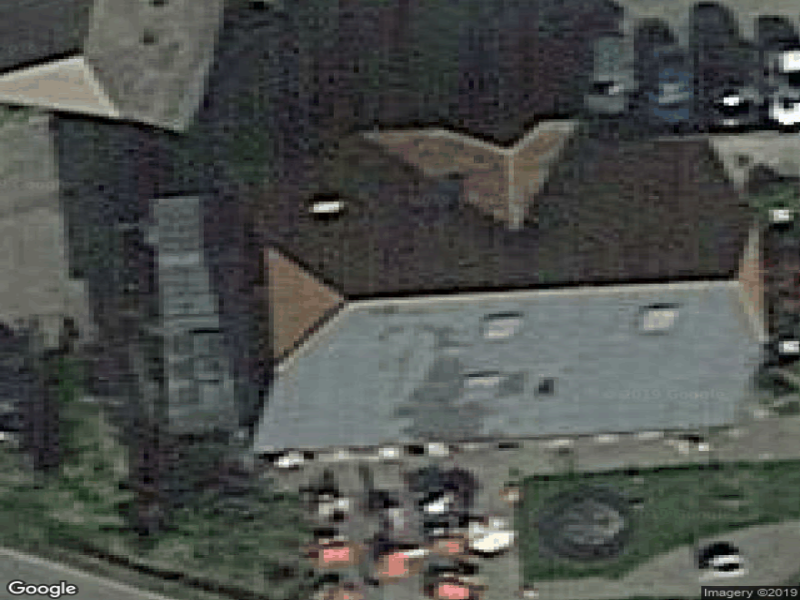pv: (260, 293, 757, 431)
